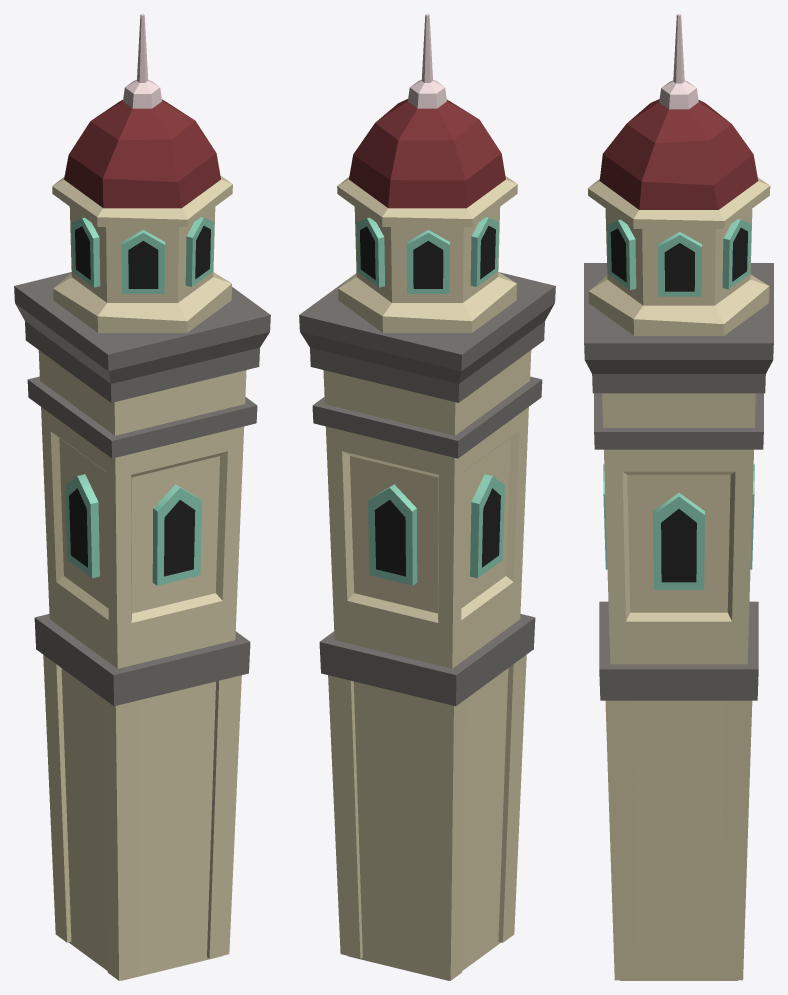
The model's file is Tower_Tiny.fbx.
3 views of the same model, side by side, from view 1: azimuth 30°, elevation 25°; view 2: azimuth 150°, elevation 25°; view 3: azimuth 270°, elevation 25° (orthographic).
Visible parts, largest first — view 1: SM_Bld_Pirate_Tower_01; view 2: SM_Bld_Pirate_Tower_01; view 3: SM_Bld_Pirate_Tower_01.
Boxes of the visible parts, left/top/right/bottom form: SM_Bld_Pirate_Tower_01: left=14, top=14, right=270, bottom=980; SM_Bld_Pirate_Tower_01: left=299, top=14, right=555, bottom=980; SM_Bld_Pirate_Tower_01: left=584, top=14, right=773, bottom=980.
Bounding box in the file's own units: 51.92 × 284 × 51.92.
